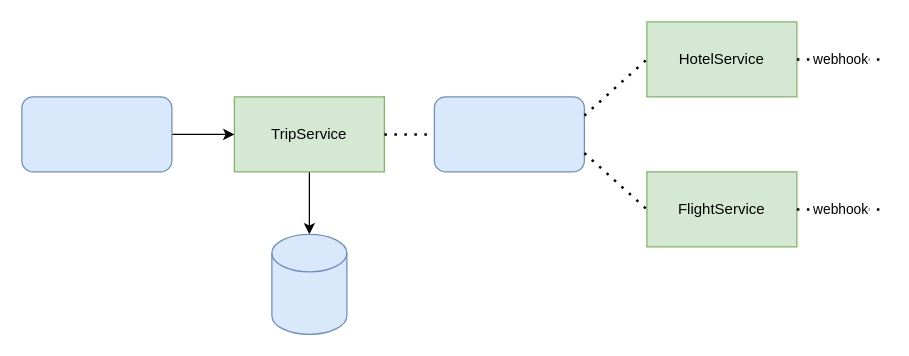
Some shapes in this 909 by 356 pixel diagram are drawn without their labels. The box of each missing label's shape, as (x1, y1, x2, y2) in pixels:
API gateway: (21, 96, 172, 172)
message broker: (433, 96, 584, 172)
